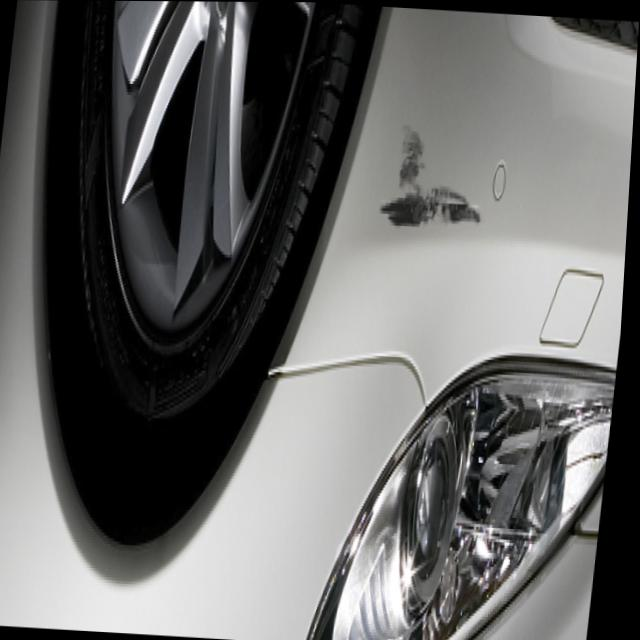Scratch: (375, 133, 491, 231)
